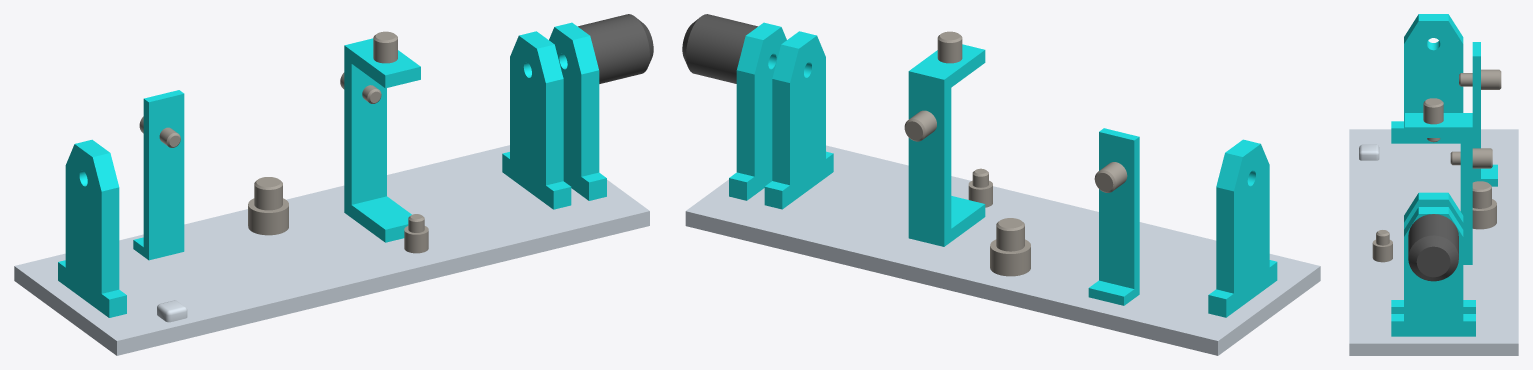
3 views of the same model, side by side, from view 1: azimuth 30°, elevation 25°; view 2: azimuth 150°, elevation 25°; view 3: azimuth 270°, elevation 25° (orthographic). The views are drawn at different scales.
Visible parts, largest first — view 1: object 1, object 2, object 3, ChamferBox001; view 2: object 1, object 2, object 3; view 3: object 1, object 2, object 3, ChamferBox001.
Part boxes in pixels (x1,y1,x2,y2): object 1: (14, 22, 649, 355); object 2: (578, 14, 653, 83); object 3: (139, 31, 397, 147); ChamferBox001: (157, 300, 187, 322); object 1: (685, 22, 1320, 355); object 2: (682, 14, 757, 83); object 3: (904, 31, 1127, 192); object 1: (1349, 14, 1518, 355); object 2: (1408, 214, 1458, 281); object 3: (1423, 69, 1501, 168); ChamferBox001: (1359, 144, 1379, 160).
Bounding box in the file's own units: 325 × 110 × 100.
